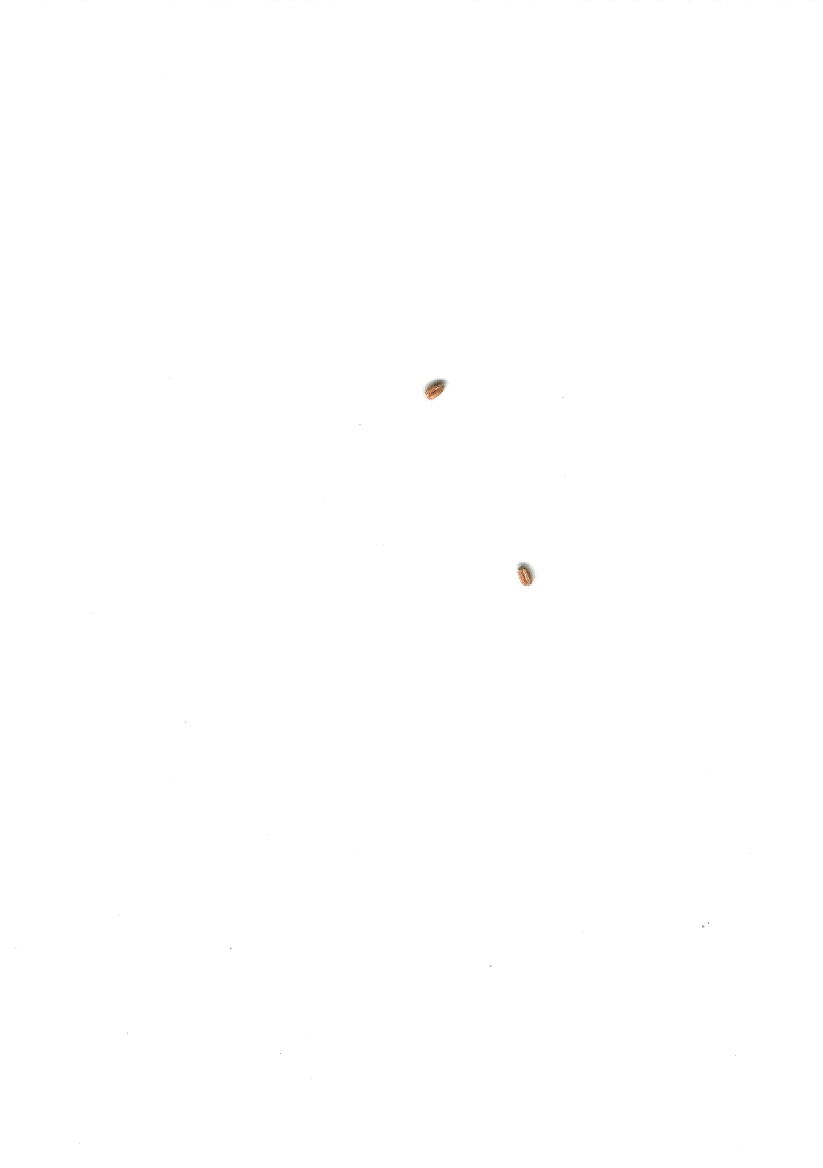grains: (497, 545, 549, 603), (410, 363, 455, 415)
